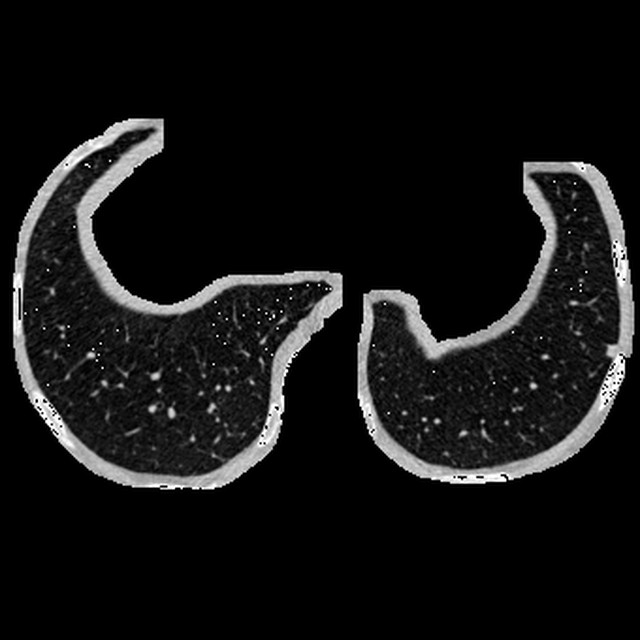PN: (604, 343, 619, 358)
